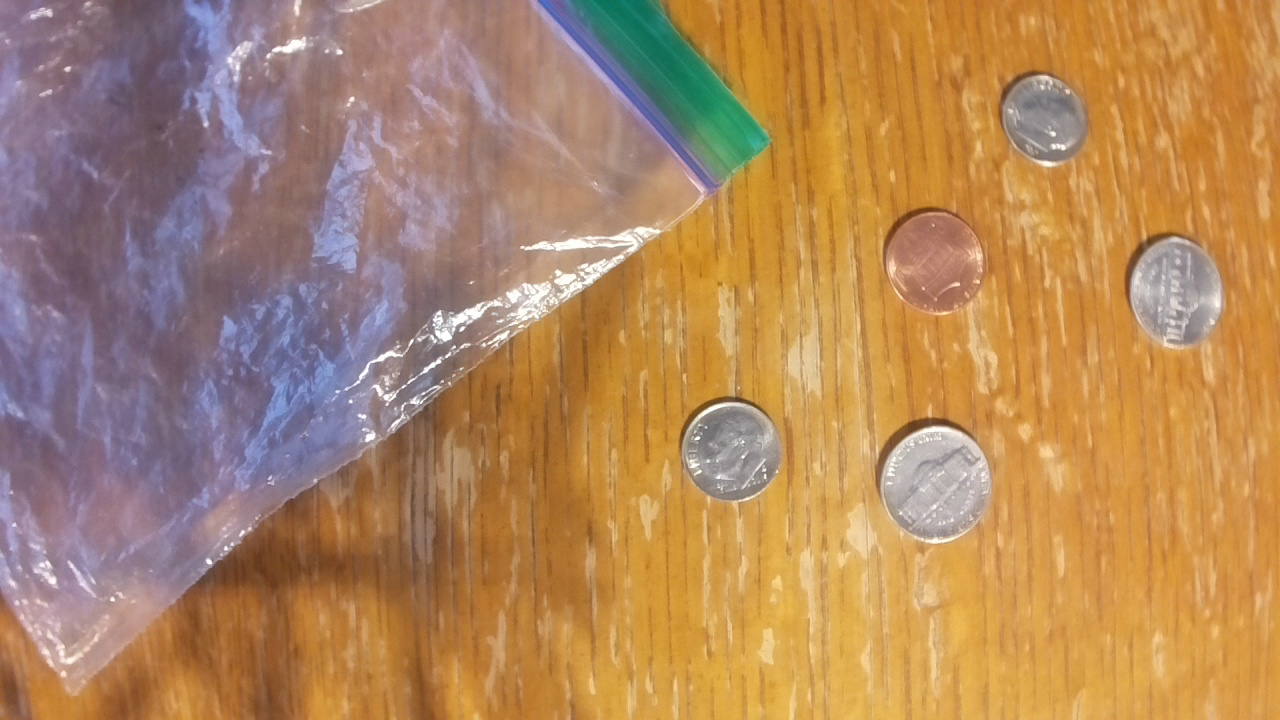dime: (680, 397, 783, 504), (997, 71, 1088, 167)
nickel: (876, 423, 995, 544), (1126, 236, 1225, 349)
penny: (883, 206, 984, 316)
